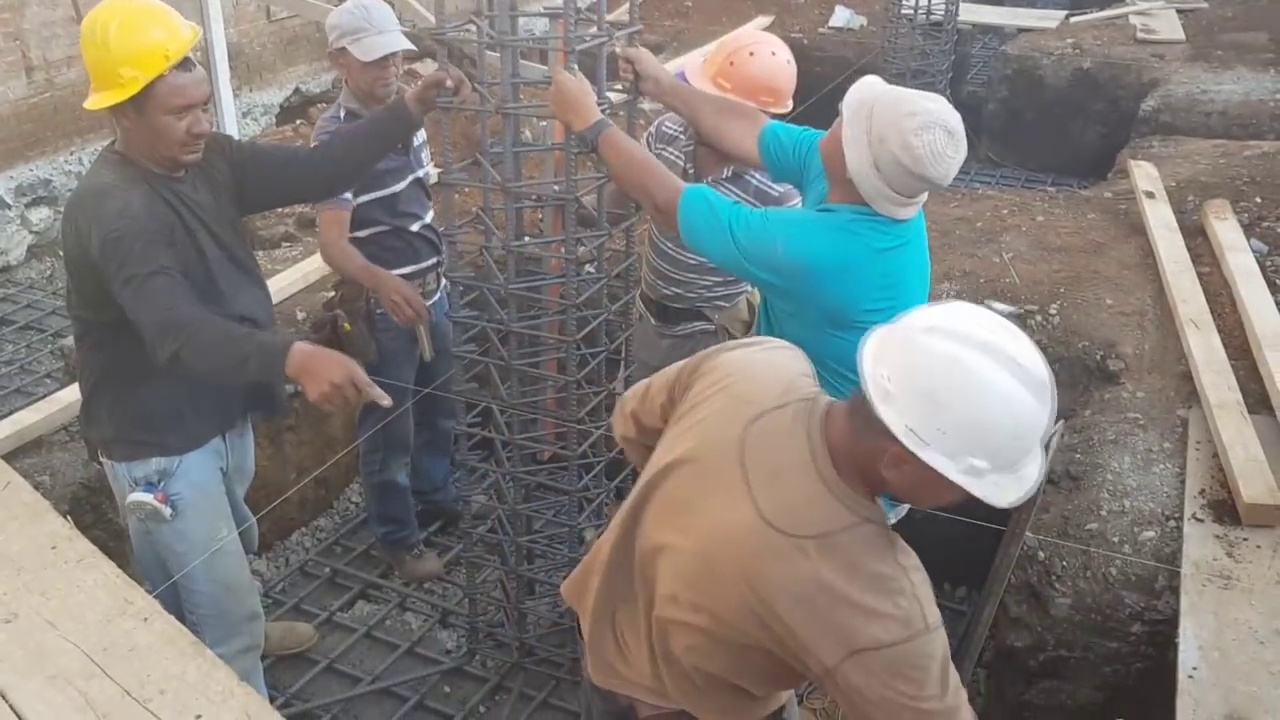helmet: (850, 297, 1057, 514), (68, 2, 208, 118), (678, 22, 804, 124)
helmet-off: (814, 82, 966, 220), (318, 0, 420, 110)
helmet-on: (814, 292, 1063, 526), (68, 0, 206, 164), (669, 17, 801, 186)
person: (66, 3, 400, 702), (568, 290, 1071, 716), (558, 45, 980, 406), (212, 7, 474, 393), (304, 5, 463, 592), (613, 0, 806, 393)
